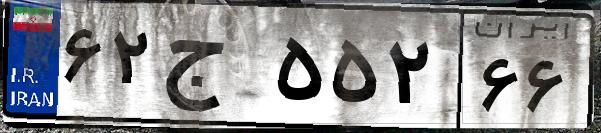2: (385, 28, 445, 110), (110, 28, 158, 98)
5: (270, 28, 330, 110), (330, 28, 385, 110)
6: (57, 26, 110, 100), (475, 38, 525, 113), (525, 38, 570, 115)
ج: (158, 20, 270, 120)
